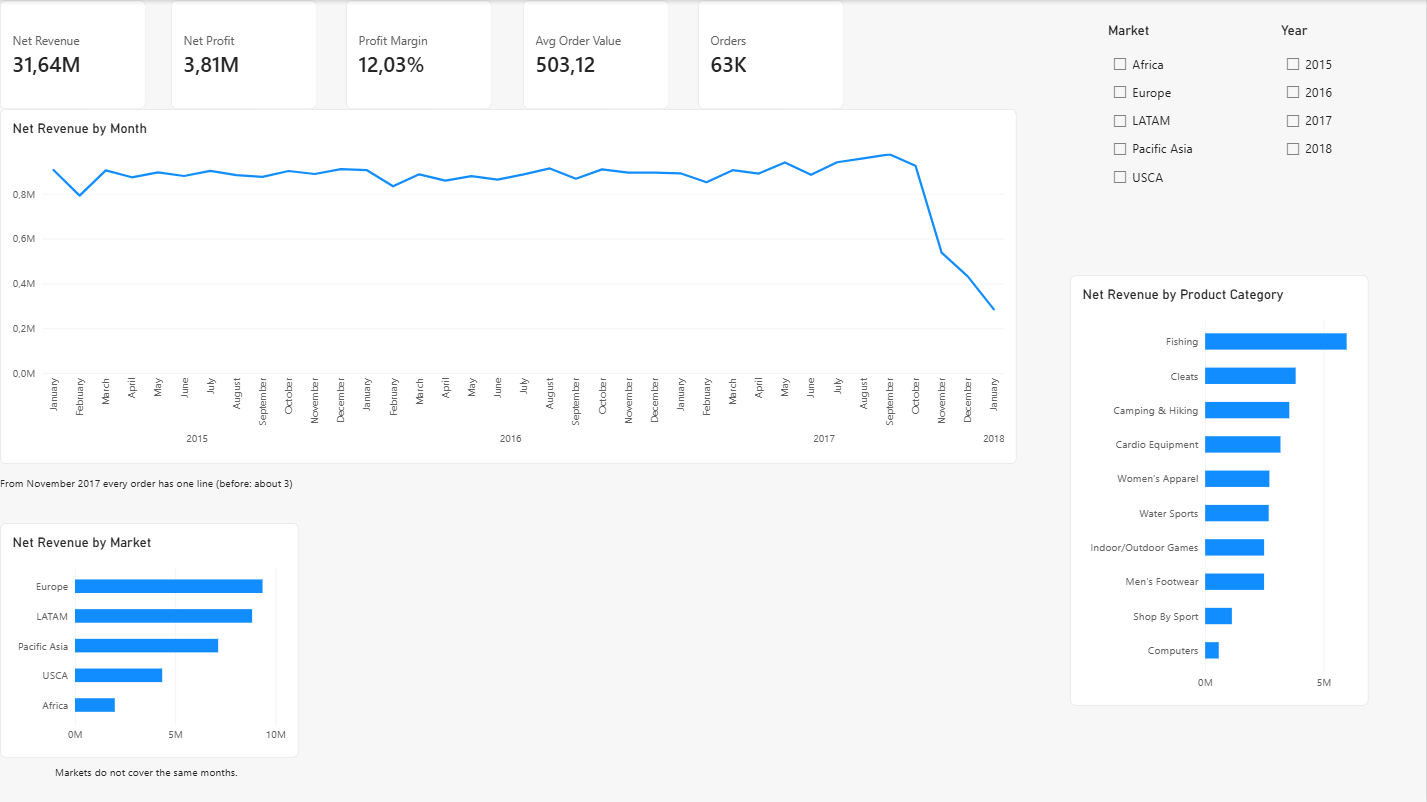

The page's visual inventory and layout, read from the dashboard file:
{"tool":"powerbi","page":{"name":"Sales Overview","canvas":[1920,1080],"ordinal":0},"visuals":[{"type":"cardVisual","fields":{"Data":["dw fact_order_items.Net Revenue"]},"box":[0,0,197,147.4],"z":0},{"type":"cardVisual","fields":{"Data":["dw fact_order_items.Net Profit"]},"box":[230.2,0,197,147.4],"z":1000},{"type":"cardVisual","fields":{"Data":["dw fact_order_items.Profit Margin"]},"box":[466.5,0,197,147.4],"z":2000},{"type":"cardVisual","fields":{"Data":["dw fact_order_items.Avg Order Value"]},"box":[704.4,0,197,147.4],"z":3000},{"type":"cardVisual","fields":{"Data":["dw fact_orders.Orders"]},"box":[939.6,0,197,147.4],"z":4000},{"type":"lineChart","title":"Net Revenue by Month","fields":{"Category":["dw dim_date.year_num","dw dim_date.month_name"],"Y":["dw fact_order_items.Net Revenue"]},"box":[0,147.3,1369.4,477.7],"z":5000,"group":"g2"},{"type":"clusteredBarChart","title":"Net Revenue by Product Category","fields":{"Category":["dw dim_product.category_name"],"Y":["dw fact_order_items.Net Revenue"]},"box":[1441.2,370.7,401.7,580],"z":5000},{"type":"slicer","title":"Year","fields":{"Values":["dw dim_date.year_num"]},"box":[1725.4,29.3,116.3,234.2],"z":6000},{"type":"textbox","box":[0,642,401.7,38.8],"z":6000,"group":"g2"},{"type":"slicer","title":"Market","fields":{"Values":["dw dim_market.market"]},"box":[1492.1,29.3,150.4,234.2],"z":7000},{"type":"clusteredBarChart","title":"Net Revenue by Market","fields":{"Category":["dw dim_market.market"],"Y":["dw fact_order_items.Net Revenue"]},"box":[0,704.4,402.1,316],"z":8000,"group":"g1"},{"type":"group","id":"g1","title":"Group 1","box":[0,704.4,402.1,352.3],"z":8000},{"type":"group","id":"g2","title":"Group 2","box":[0,147.3,1369.4,533.5],"z":9000},{"type":"textbox","box":[74.1,1031,255.5,25.7],"z":11000,"group":"g1"}]}

Visuals, with their boxes in screenshot pixels (x1, y1, x2, y2), scaled from the page's 1920x1080 canvas onto the 1427x802 screenshot:
cardVisual - dw fact_order_items.Net Revenue: Rect(0, 0, 146, 109)
cardVisual - dw fact_order_items.Net Profit: Rect(171, 0, 318, 109)
cardVisual - dw fact_order_items.Profit Margin: Rect(347, 0, 493, 109)
cardVisual - dw fact_order_items.Avg Order Value: Rect(524, 0, 670, 109)
cardVisual - dw fact_orders.Orders: Rect(698, 0, 845, 109)
"Net Revenue by Month" lineChart: Rect(0, 109, 1018, 464)
"Net Revenue by Product Category" clusteredBarChart: Rect(1071, 275, 1370, 706)
"Year" slicer: Rect(1282, 22, 1369, 196)
textbox: Rect(0, 477, 299, 506)
"Market" slicer: Rect(1109, 22, 1221, 196)
"Net Revenue by Market" clusteredBarChart: Rect(0, 523, 299, 758)
"Group 1" group: Rect(0, 523, 299, 785)
"Group 2" group: Rect(0, 109, 1018, 506)
textbox: Rect(55, 766, 245, 785)
